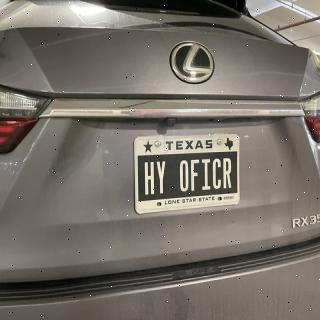license: (134, 135, 241, 215)
